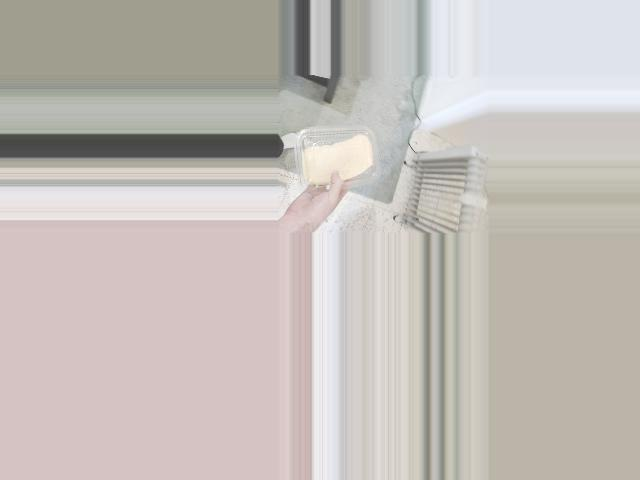cheese: (295, 127, 382, 191)
